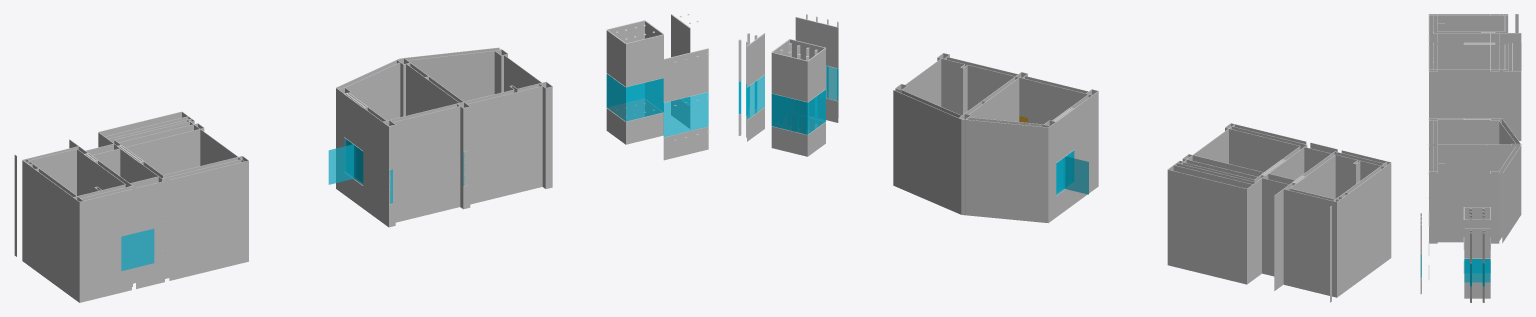
File: 737ebc06-ad74-4623-aea0-8ad116045a16.glb
3 views of the same model, side by side, from view 1: azimuth 30°, elevation 25°; view 2: azimuth 150°, elevation 25°; view 3: azimuth 270°, elevation 25° (orthographic). The views are drawn at different scales.
Parts seen in each view (by area): view 1: walls, windows, roof; view 2: walls, windows, roof; view 3: walls, roof, windows.
Boxes of the visible parts, x1,y1,x2,y2 form: walls: (14, 14, 709, 302); windows: (121, 74, 708, 270); roof: (14, 47, 552, 201); walls: (738, 14, 1391, 302); windows: (738, 64, 1088, 195); roof: (893, 53, 1391, 207); walls: (1420, 14, 1521, 302); roof: (1428, 14, 1521, 173); windows: (1420, 254, 1490, 286).
Size of the model in its own units: 23.56 by 3.5 by 4.6.
